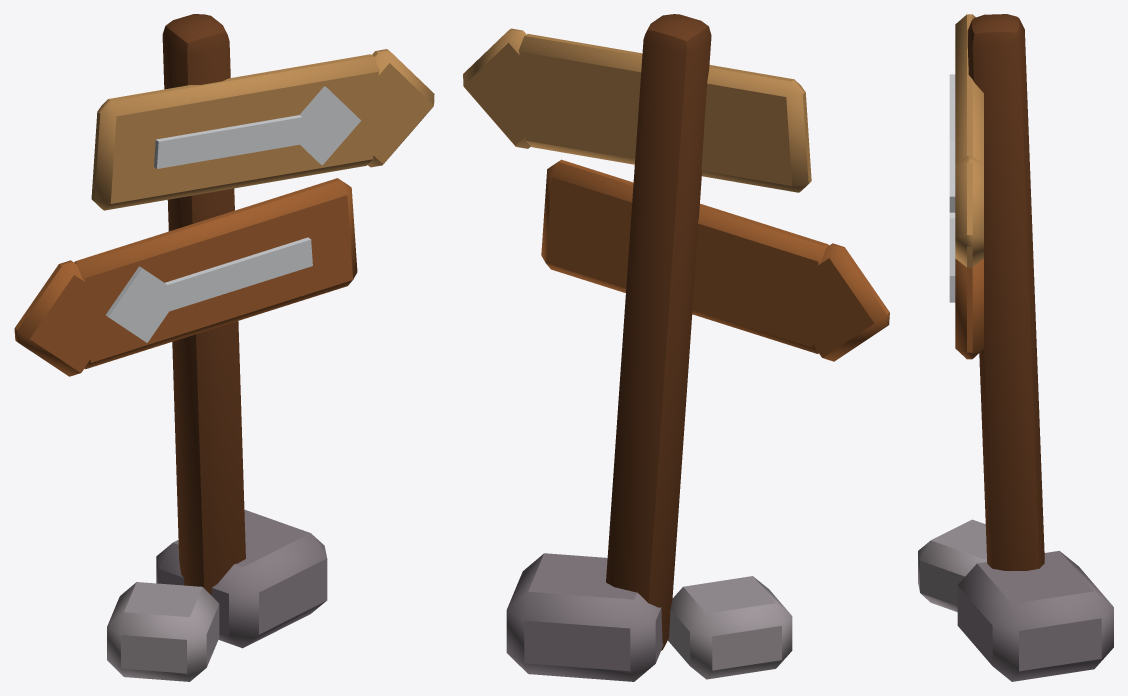
Rendered from p_signpost.glb.
3 renders of one model, left to right at view 1: azimuth 30°, elevation 25°; view 2: azimuth 150°, elevation 25°; view 3: azimuth 270°, elevation 25°, orthographic. The views are drawn at different scales.
Visible parts, largest first — view 1: body; view 2: body; view 3: body.
Boxes of the visible parts, bbox=[...] form: body: bbox=[14, 14, 434, 681]; body: bbox=[463, 14, 889, 681]; body: bbox=[918, 14, 1113, 681].
Bounding box in the file's own units: 1.62 × 2.33 × 0.6824.
